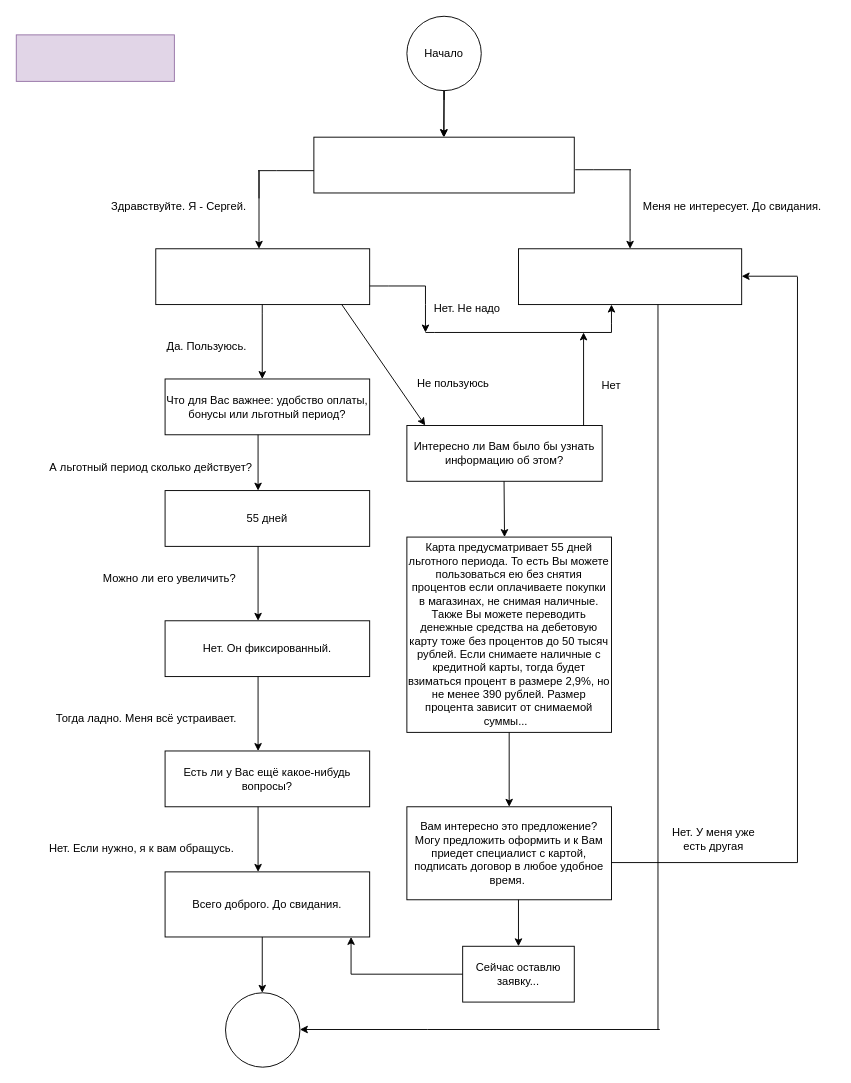
The diagram is 851 pixels wide and 1083 high, and some of its shapes have lost their labels. The centre of each missing label's shape, as x and y in pixels:
"ЗАДАНИЕ 1" goes at point 94,57.
"Здравствуйте. Компания Тинькофф. Меня зовут Мария. Как я могу к Вам обращаться?" goes at point 443,164.
"Конец" goes at point 262,1029.
"Понимаю. Спасибо за уделенное время. Всего доброго." goes at point 630,276.
"Скажите. Вы сейчас пользуетесь кредитной картой?" goes at point 262,276.
